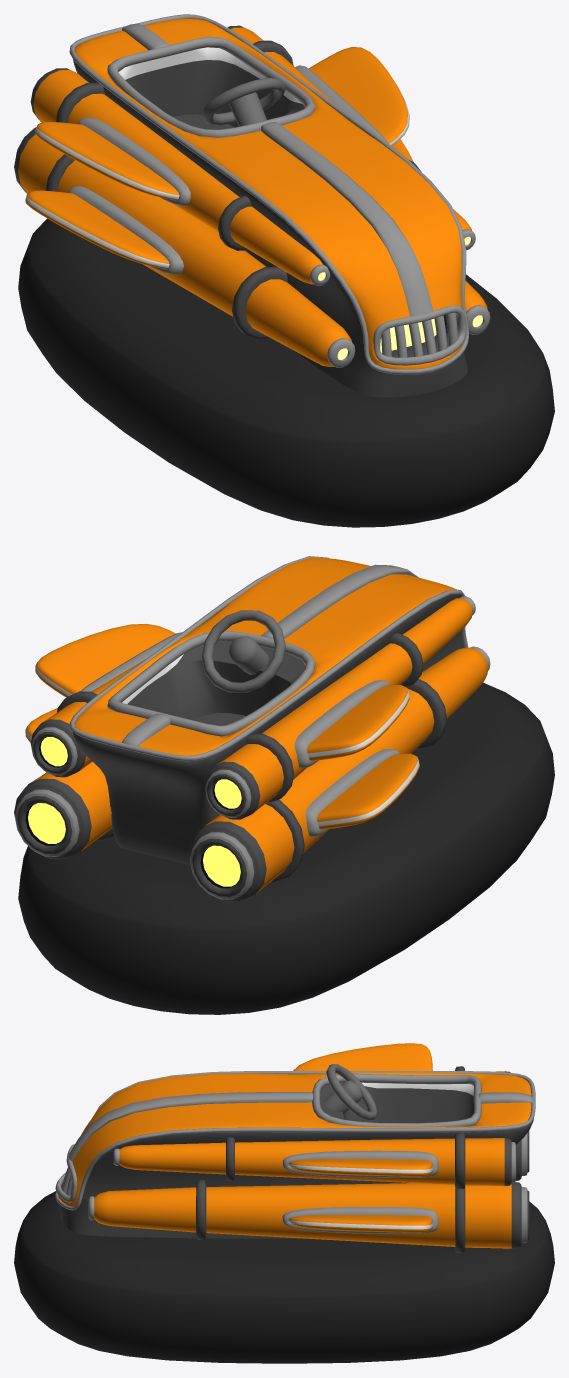
Rendered from mesh_Car_Menu_F.fbx.
The picture shows the model from 3 angles, top to bottom: view 1: azimuth 30°, elevation 25°; view 2: azimuth 150°, elevation 25°; view 3: azimuth 270°, elevation 25°; orthographic projection. The views are drawn at different scales.
Visible parts, largest first — view 1: mesh_Car_Menu_F; view 2: mesh_Car_Menu_F; view 3: mesh_Car_Menu_F.
Part boxes in pixels (bbox=[...]): mesh_Car_Menu_F: bbox=[14, 14, 554, 527]; mesh_Car_Menu_F: bbox=[14, 556, 554, 1014]; mesh_Car_Menu_F: bbox=[14, 1043, 554, 1363].
Size of the model in its own units: 1.79 by 1.5 by 2.97.
